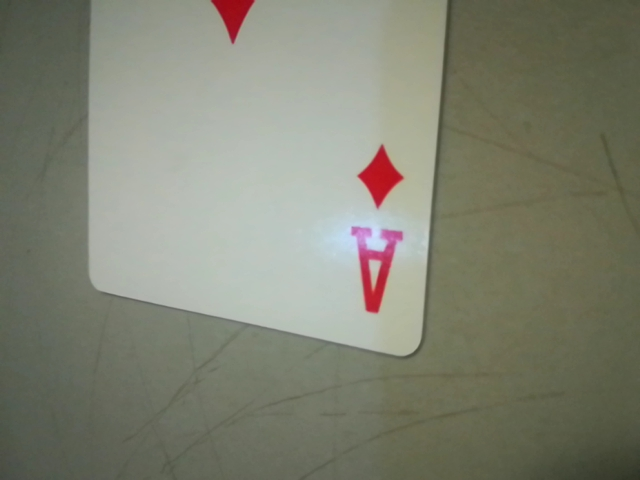fk a: (335, 140, 416, 332)
